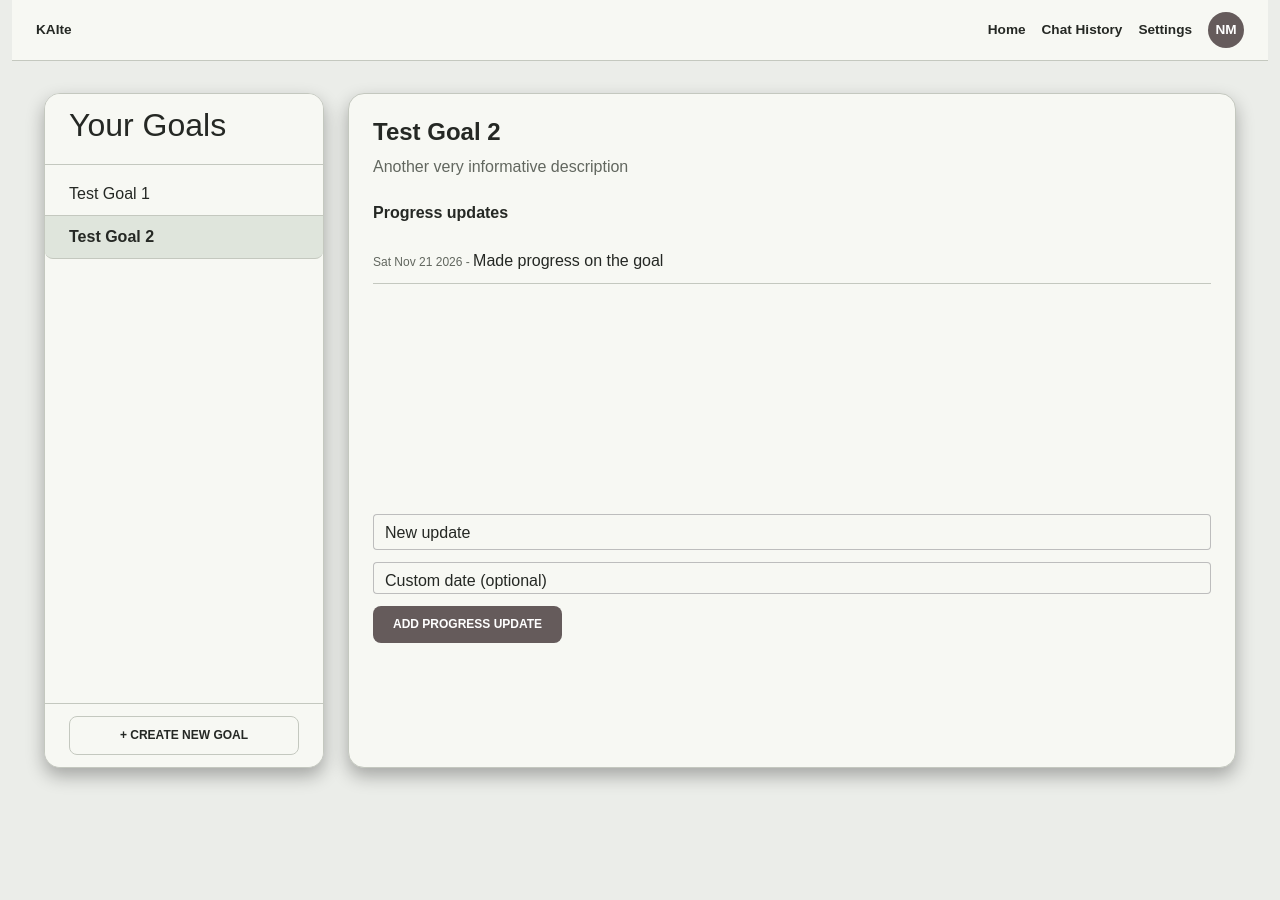
it: when selected goal pane is displayed and user clicks a different goal, displays that goal
user action
Step 1. Click the list item "Test Goal 1" → (184, 195), box x1=45 y1=173 x2=323 y2=216
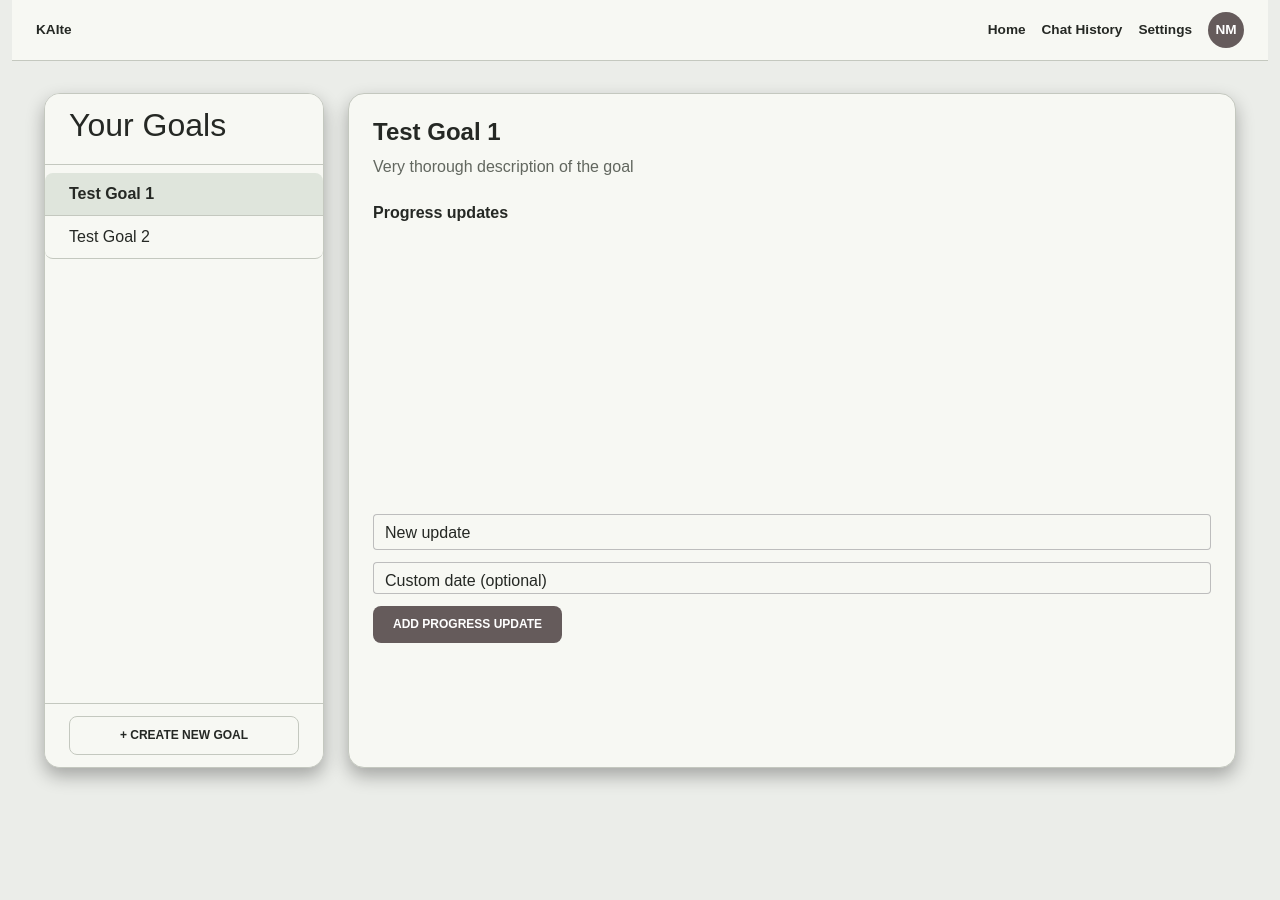
Expected: the field with placeholder "Add a progress update..." is shown, x1=373 y1=514 x2=1211 y2=550
Expected: the heading "Test Goal 1" is shown, x1=373 y1=118 x2=501 y2=145
Expected: the text "Very thorough description of the goal" is shown, x1=373 y1=158 x2=634 y2=175
